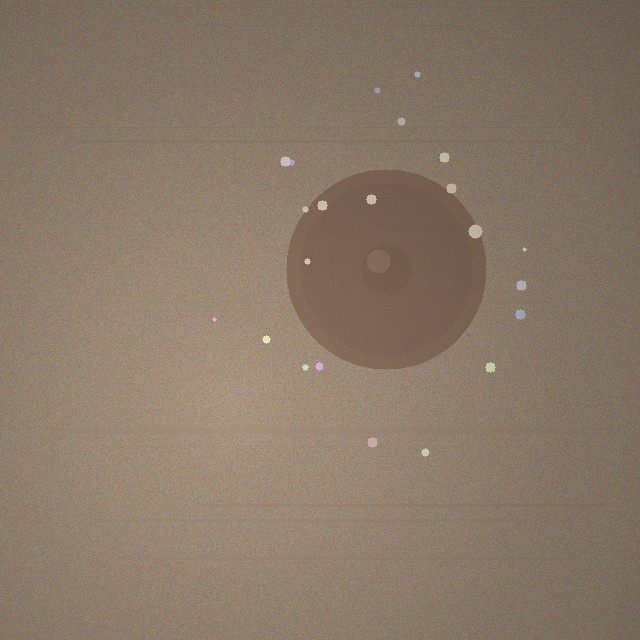overburn: (286, 169, 486, 369)
